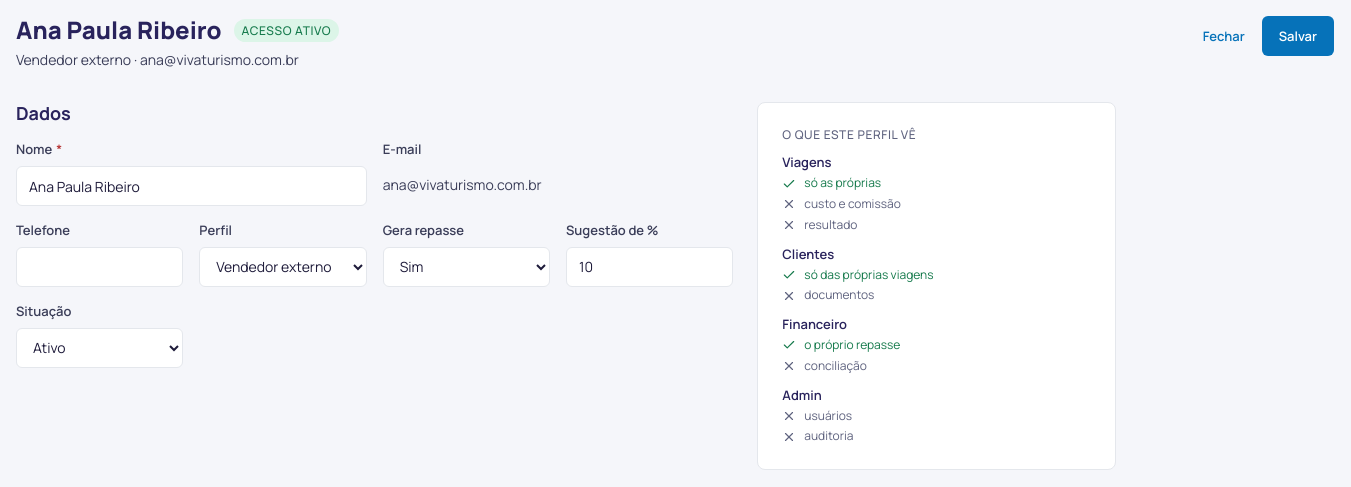
Test: PerfilVe para vendedor_externo mostra 'só as próprias' e resultado com X; trocar para agente atualiza
Check: the field showing "Ana Paula Ribeiro" is shown, box [16,166,367,206]
Check: the text "só as próprias" is shown, box [782,174,881,191]
Select "Agente" in the dropdown labelled "Perfil" at (283, 267), box [199,247,367,287]
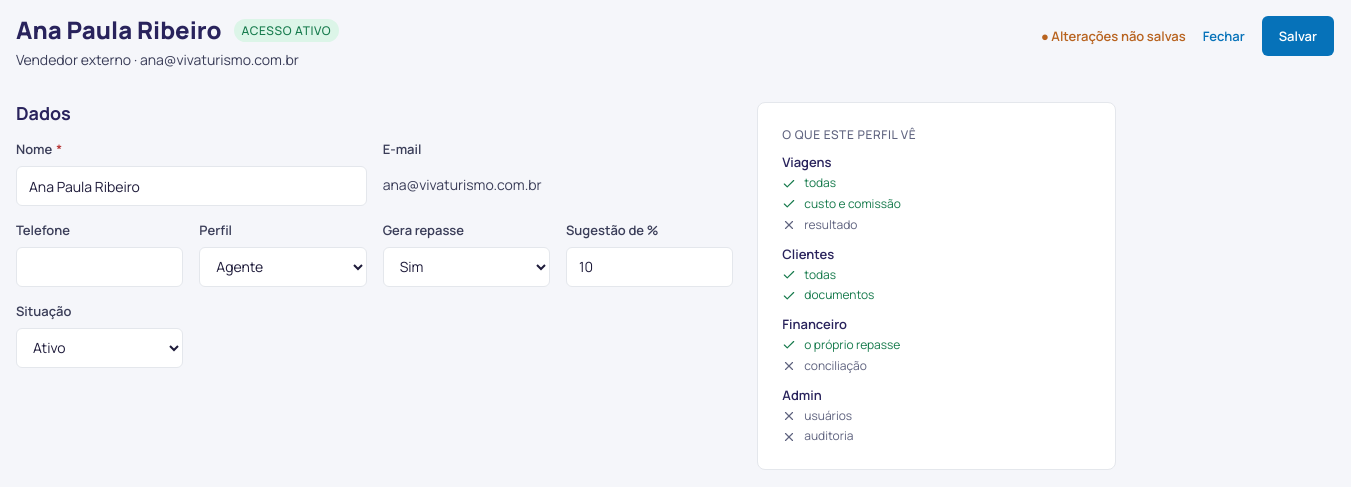
Check: the text "todas" is shown 2 times, box [782,174,836,191]; [782,266,836,283]
Check: the text "só as próprias" is gone
